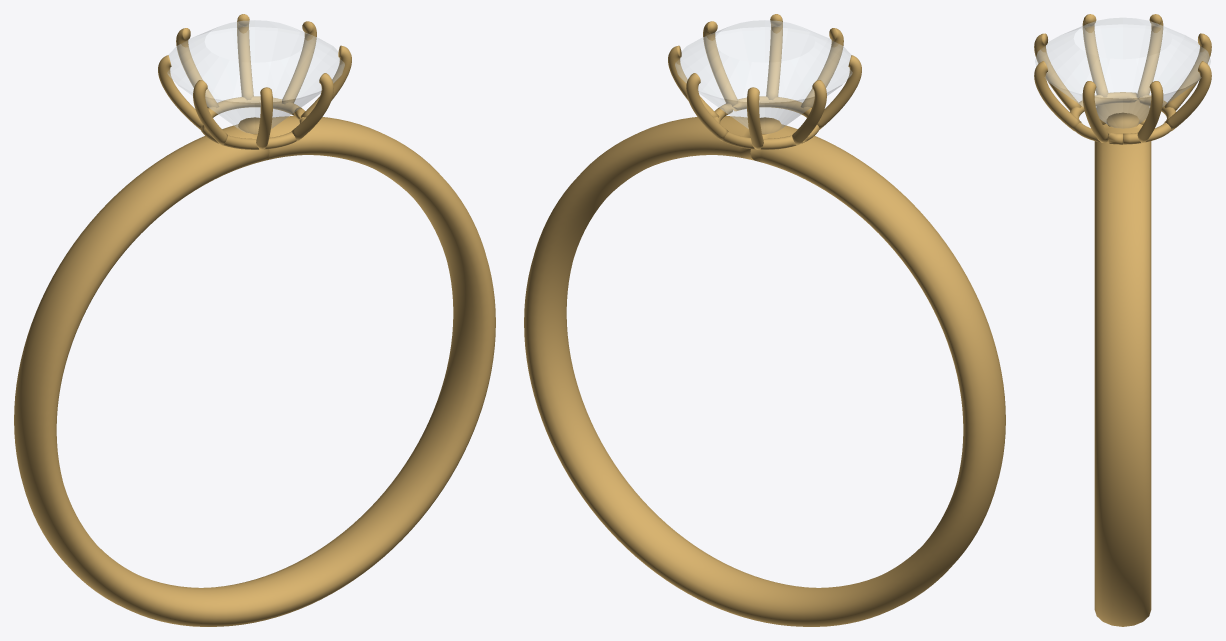
Rendered from settings-eight-prong.glb.
The picture shows the model from 3 angles, left to right: view 1: azimuth 30°, elevation 25°; view 2: azimuth 150°, elevation 25°; view 3: azimuth 270°, elevation 25°; orthographic projection. The views are drawn at different scales.
Visible parts, largest first — view 1: Band, Gem, Lower gallery, Prong, Prong.001, Prong.003, Prong.006, Prong.002, Prong.004, Prong.005, Prong.007; view 2: Band, Gem, Lower gallery, Prong.007, Prong.006, Prong.004, Prong.001, Prong.005, Prong.003, Prong.002, Prong; view 3: Band, Gem, Lower gallery, Prong.003, Prong.004, Prong.002, Prong.005, Prong.001, Prong.006, Prong.007, Prong, Head stem.
Part boxes in pixels (x1,y1,x2,y2): Band: (14,116,495,626); Gem: (167,20,344,133); Lower gallery: (201,96,305,149); Prong: (282,21,316,104); Prong.001: (237,14,253,99); Prong.003: (158,55,202,130); Prong.006: (291,73,333,141); Prong.002: (176,28,218,107); Prong.004: (193,80,227,145); Prong.005: (256,87,272,149); Prong.007: (300,45,351,117); Band: (524,116,1005,626); Gem: (675,20,852,133); Lower gallery: (714,96,819,149); Prong.007: (703,21,737,105); Prong.006: (766,14,782,99); Prong.004: (817,55,861,129); Prong.001: (686,73,728,141); Prong.005: (801,28,843,107); Prong.003: (792,80,826,145); Prong.002: (747,87,763,149); Prong: (668,45,719,117); Band: (1094,100,1151,626); Gem: (1035,18,1210,128); Lower gallery: (1070,92,1175,144); Prong.003: (1136,14,1163,97); Prong.004: (1082,14,1108,97); Prong.002: (1164,33,1211,110); Prong.005: (1034,33,1081,110); Prong.001: (1164,61,1211,131); Prong.006: (1034,61,1081,131); Prong.007: (1082,81,1108,142); Prong: (1137,81,1163,142); Head stem: (1106,112,1139,127).
Bounding box in the file's own units: 19.6 × 22.94 × 6.56.
